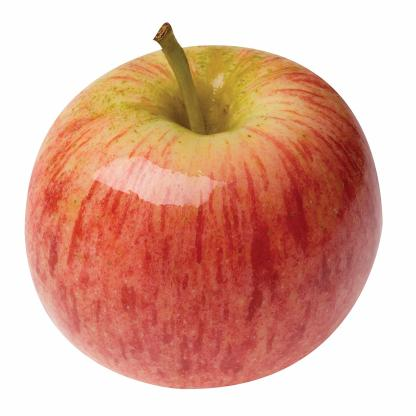apple: (24, 27, 401, 393)
